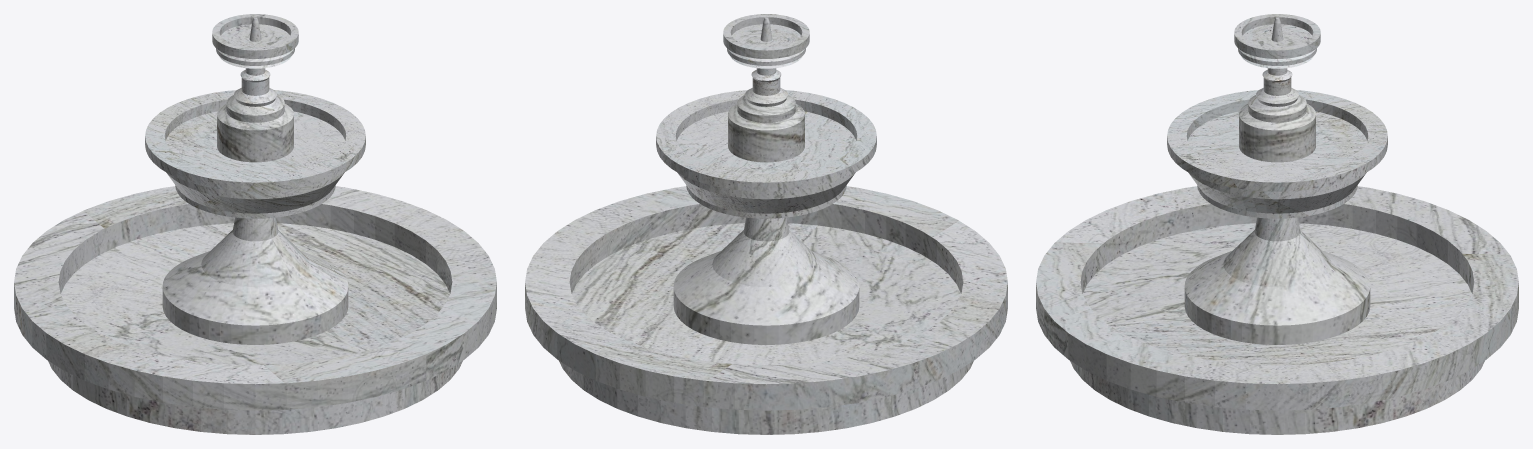
Rendered from Fountain.fbx.
3 renders of one model, left to right at view 1: azimuth 30°, elevation 25°; view 2: azimuth 150°, elevation 25°; view 3: azimuth 270°, elevation 25°, orthographic.
Parts seen in each view (by area): view 1: Fountain_LOD0; view 2: Fountain_LOD0; view 3: Fountain_LOD0.
Boxes of the visible parts, <box> form: Fountain_LOD0: <box>14,14,496,434</box>; Fountain_LOD0: <box>525,14,1007,434</box>; Fountain_LOD0: <box>1036,14,1518,434</box>.
Size of what is drawn, in the model's own units: 1902 by 1425 by 1902.
